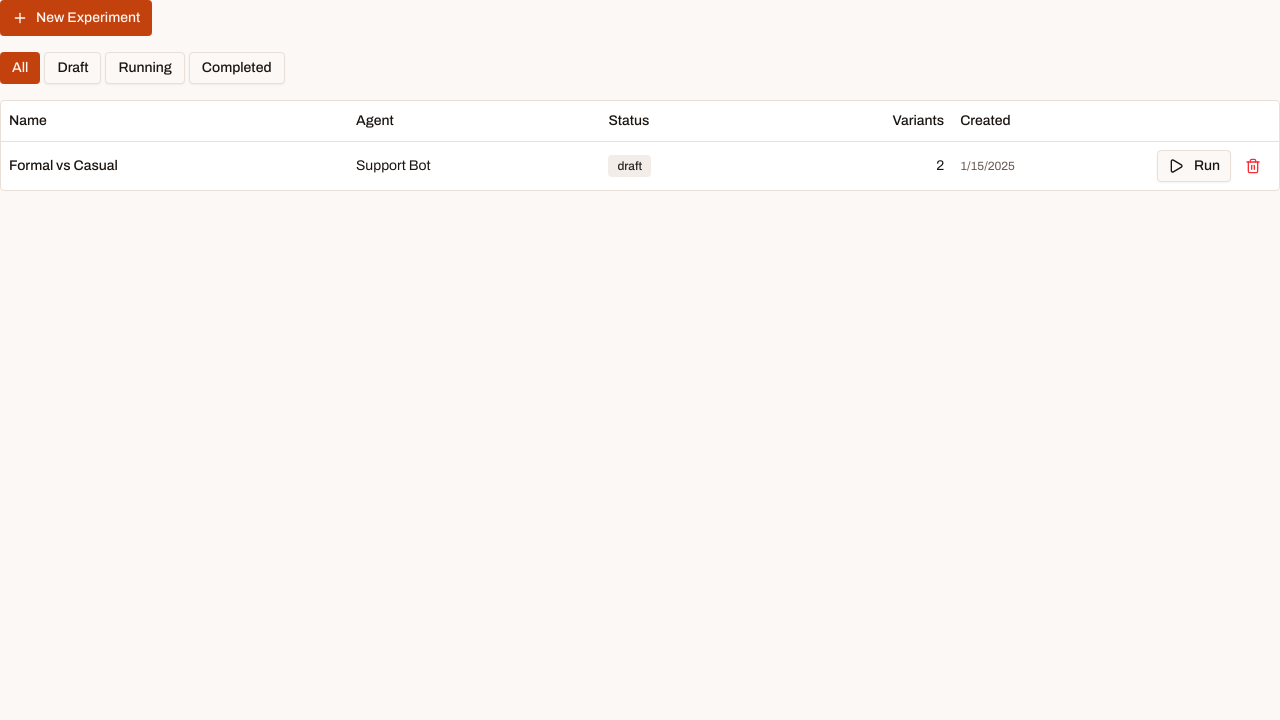
Test case: ExperimentsList › Delete action › shows APIClientError message when delete fails with APIClientError
Expected: the text "Formal vs Casual" is shown, [9,158,118,172]
What coordinates should you click on to do the following:
click the button named "delete experiment"
I would click on:
 (1253, 166)
Its box is [1235,150,1271,182].
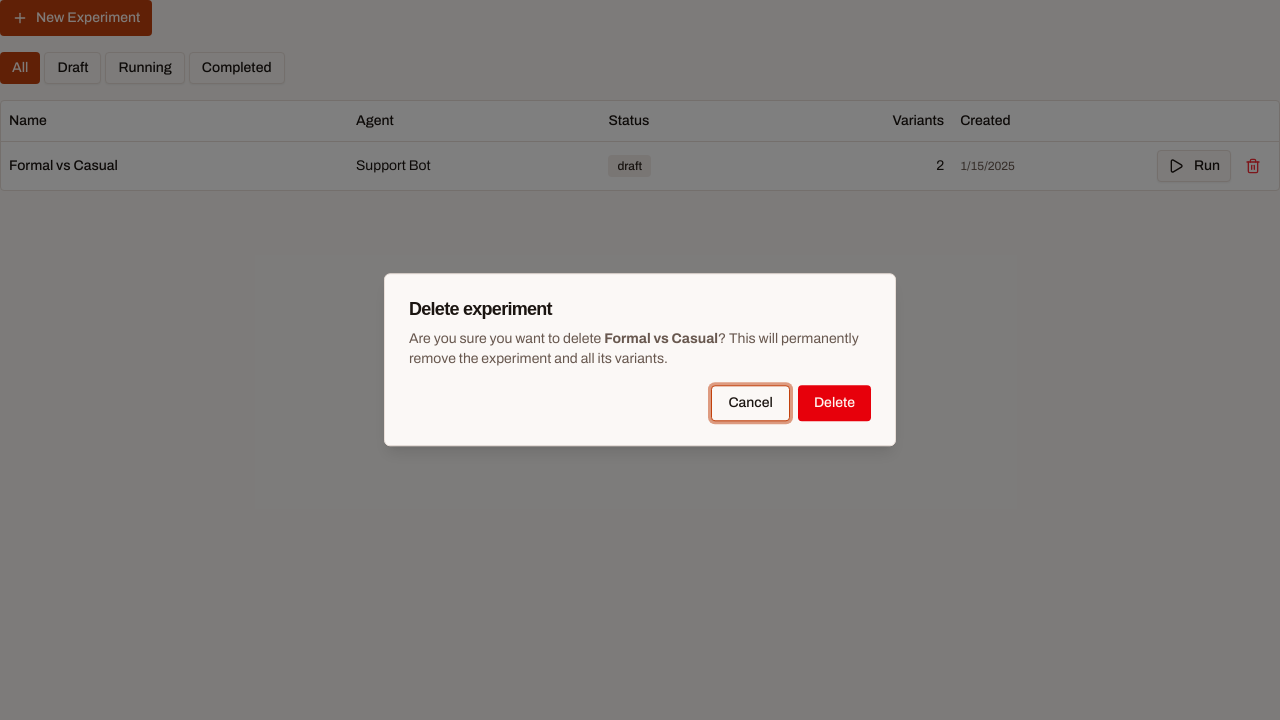
Now the text "Are you sure" is shown, box [409,332,604,347]
What coordinates should you click on to do the following:
click the button "Delete"
I would click on:
 (834, 404)
Its box is [798,386,871,422].
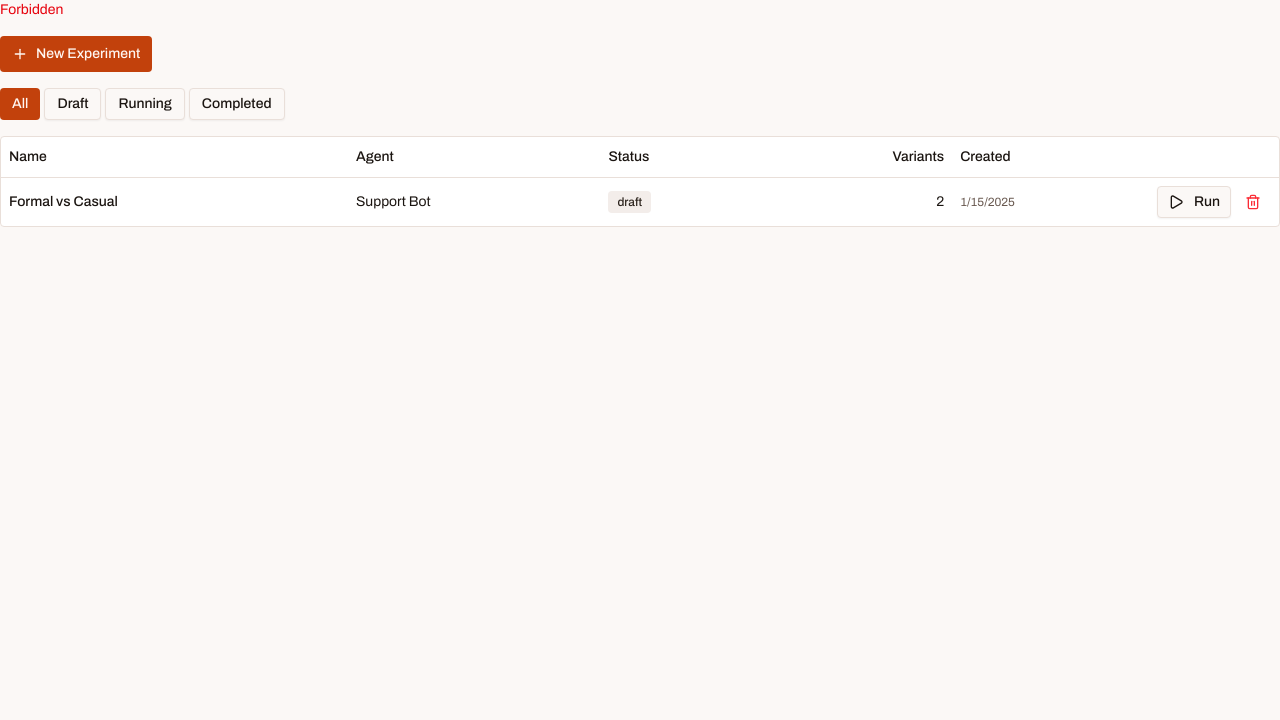
Now the text "Forbidden" is shown, box [0,2,63,17]
